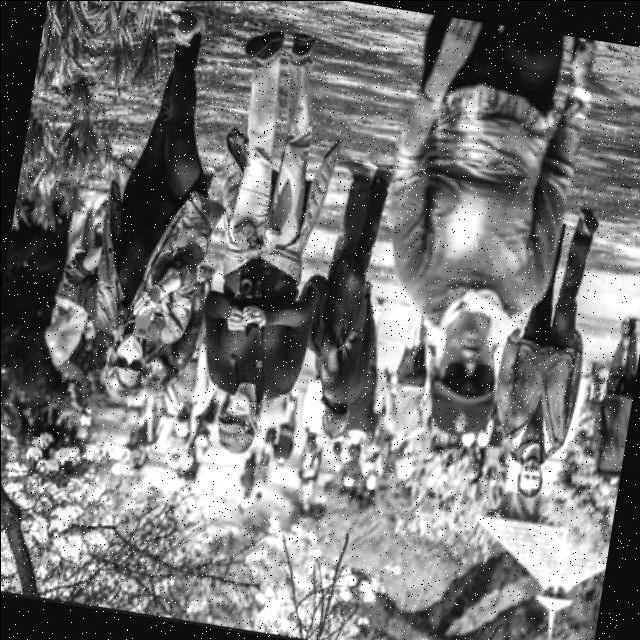mask: (108, 332, 146, 368), (224, 391, 262, 422)
no_apron: (434, 12, 488, 72), (557, 41, 621, 86), (120, 278, 162, 324), (212, 305, 274, 333)
no_hairnet: (446, 336, 493, 374), (518, 466, 544, 488)
